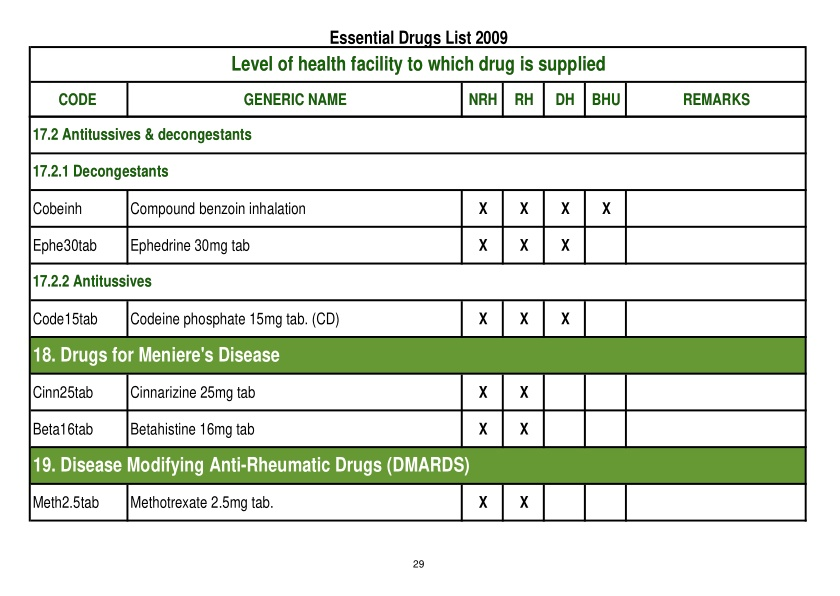merged_cells: (28, 45, 808, 524)
